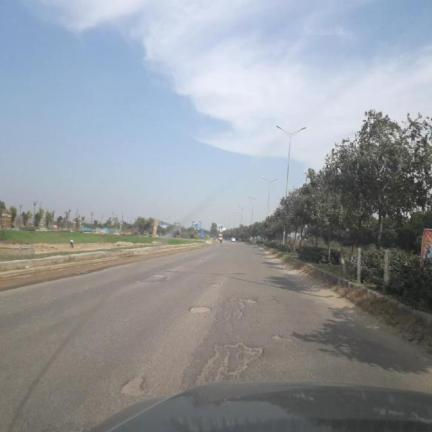Road: (0, 243, 431, 431)
